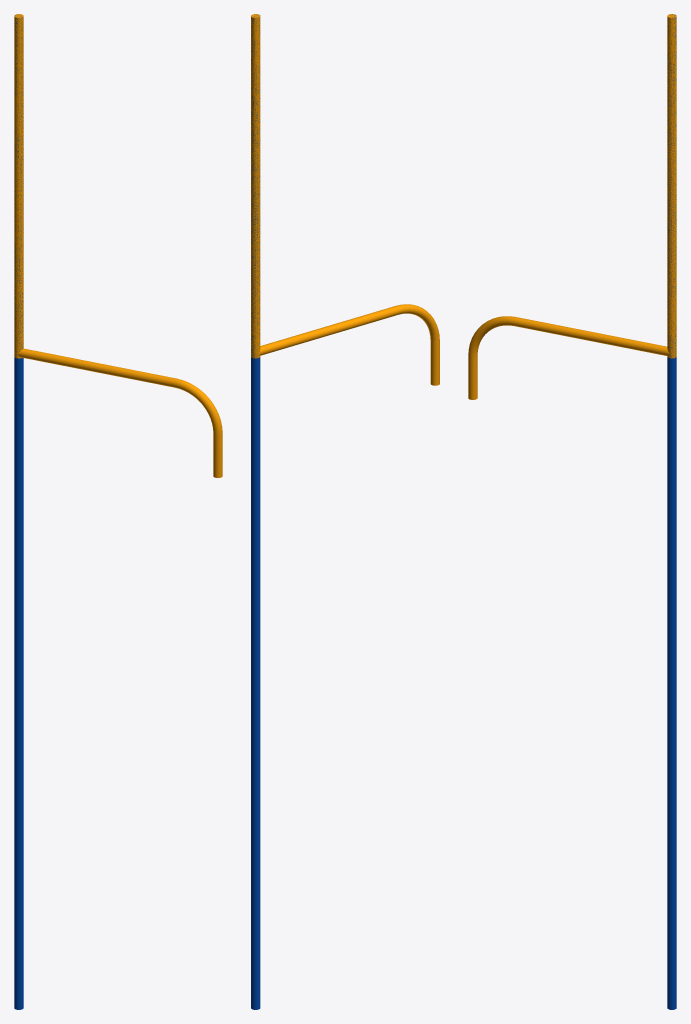
Rendered from cosa.dae.
The picture shows the model from 3 angles, left to right: view 1: azimuth 90°, elevation 25°; view 2: azimuth 150°, elevation 25°; view 3: azimuth 270°, elevation 25°; orthographic projection.
Visible parts, largest first — view 1: group_0 (×2), group_1; view 2: group_0 (×2), group_1; view 3: group_0 (×2), group_1.
Boxes of the visible parts, box(x1,y1,x2,y2) form: group_0 (×2): box(14, 14, 23, 1009); group_1: box(17, 348, 222, 477); group_0 (×2): box(251, 14, 260, 1009); group_1: box(258, 304, 439, 385); group_0 (×2): box(667, 14, 676, 1009); group_1: box(468, 316, 669, 399).
Bounding box in the file's own units: 12.85 × 26.32 × 138.
